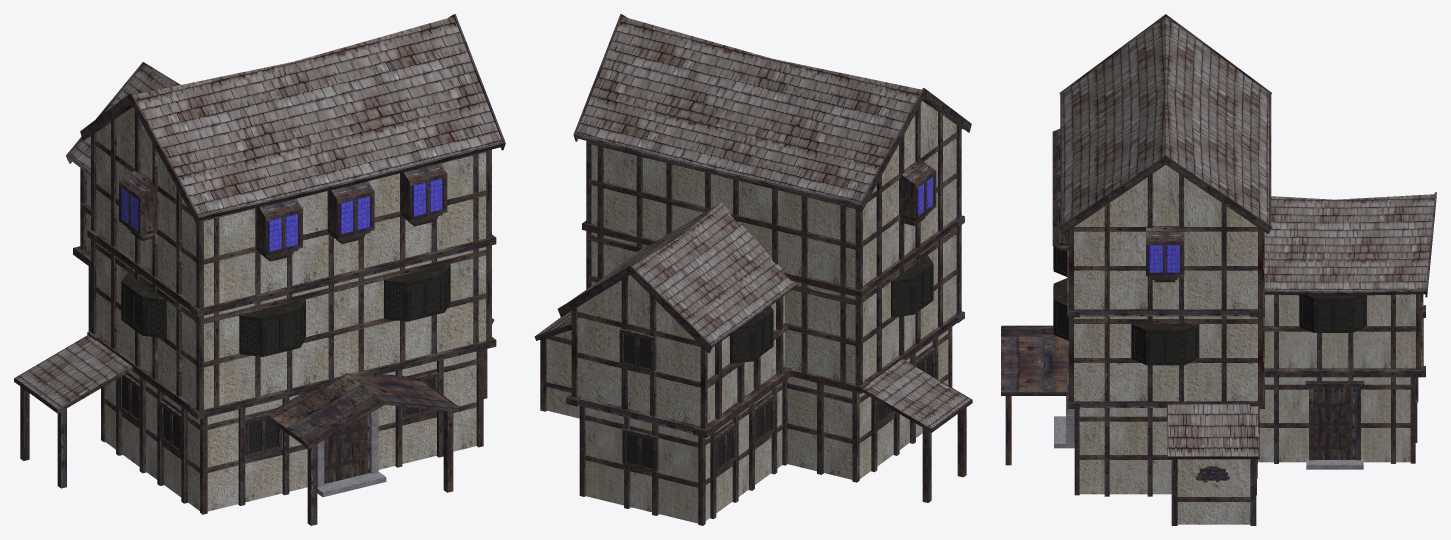
Rendered from thouse19.dae.
3 views of the same model, side by side, from view 1: azimuth 30°, elevation 25°; view 2: azimuth 150°, elevation 25°; view 3: azimuth 270°, elevation 25° (orthographic). The views are drawn at different scales.
Visible parts, largest first — view 1: House2_Roof, House2_Level3, House2_Level2, House2_Level1, House2_Level2_Beams, House2_Level1_Beams, House2_Level3_Beams, Roof1Outer, Roof2Outer, House2_Level2_SeperatorBeams, House2_Roof_Frame, House2_Level1_SeperatorBeams (+25 smaller); view 2: House2_Roof, House2_Level3, House5_Level2, House5_Roof, House5_Level1, House2_Level3_Beams, House2_Level2, House2_Level1, House2_Level2_Beams, House5_Level1_Beams, House5_Level2_Beams, House2_Level1_Beams (+19 smaller); view 3: House2_Roof, House2_Level3, House5_Roof, House2_Level2, House5_Level2, House5_Level1, House2_Level1, BuildingExtensions4Roof, House2_Level3_Beams, Roof1Outer, BuildingExtensions4, House2_Level2_Beams (+21 smaller).
Part boxes in pixels (bbox=[...]): House2_Roof: bbox=[133, 16, 502, 215]; House2_Level3: bbox=[96, 107, 486, 307]; House2_Level2: bbox=[96, 243, 486, 409]; House2_Level1: bbox=[105, 351, 476, 511]; House2_Level2_Beams: bbox=[91, 239, 491, 411]; House2_Level1_Beams: bbox=[101, 350, 483, 514]; House2_Level3_Beams: bbox=[91, 111, 491, 308]; Roof1Outer: bbox=[269, 373, 458, 444]; Roof2Outer: bbox=[16, 335, 131, 408]; House2_Level2_SeperatorBeams: bbox=[87, 229, 496, 316]; House2_Roof_Frame: bbox=[80, 14, 505, 224]; House2_Level1_SeperatorBeams: bbox=[87, 331, 496, 419]; House2_Roof: bbox=[576, 16, 921, 202]; House2_Level3: bbox=[591, 101, 956, 288]; House5_Level2: bbox=[577, 275, 784, 426]; House5_Roof: bbox=[584, 202, 795, 344]; House5_Level1: bbox=[585, 383, 782, 523]; House2_Level3_Beams: bbox=[586, 104, 961, 289]; House2_Level2: bbox=[591, 228, 956, 384]; House2_Level1: bbox=[787, 330, 948, 479]; House2_Level2_Beams: bbox=[586, 225, 961, 385]; House5_Level1_Beams: bbox=[579, 379, 787, 525]; House5_Level2_Beams: bbox=[571, 276, 788, 428]; House2_Level1_Beams: bbox=[787, 327, 952, 482]; House2_Roof: bbox=[1062, 17, 1269, 224]; House2_Level3: bbox=[1074, 165, 1257, 308]; House5_Roof: bbox=[1264, 194, 1434, 291]; House2_Level2: bbox=[1074, 316, 1257, 400]; House5_Level2: bbox=[1264, 294, 1415, 368]; House5_Level1: bbox=[1258, 377, 1410, 462]; House2_Level1: bbox=[1079, 408, 1171, 494]; BuildingExtensions4Roof: bbox=[1168, 404, 1258, 456]; House2_Level3_Beams: bbox=[1069, 174, 1264, 309]; Roof1Outer: bbox=[1001, 326, 1067, 391]; BuildingExtensions4: bbox=[1177, 459, 1250, 524]; House2_Level2_Beams: bbox=[1069, 316, 1264, 401].
Bounding box in the file's own units: 11.52 × 11.36 × 10.2.
24 materials, 24 textured.
